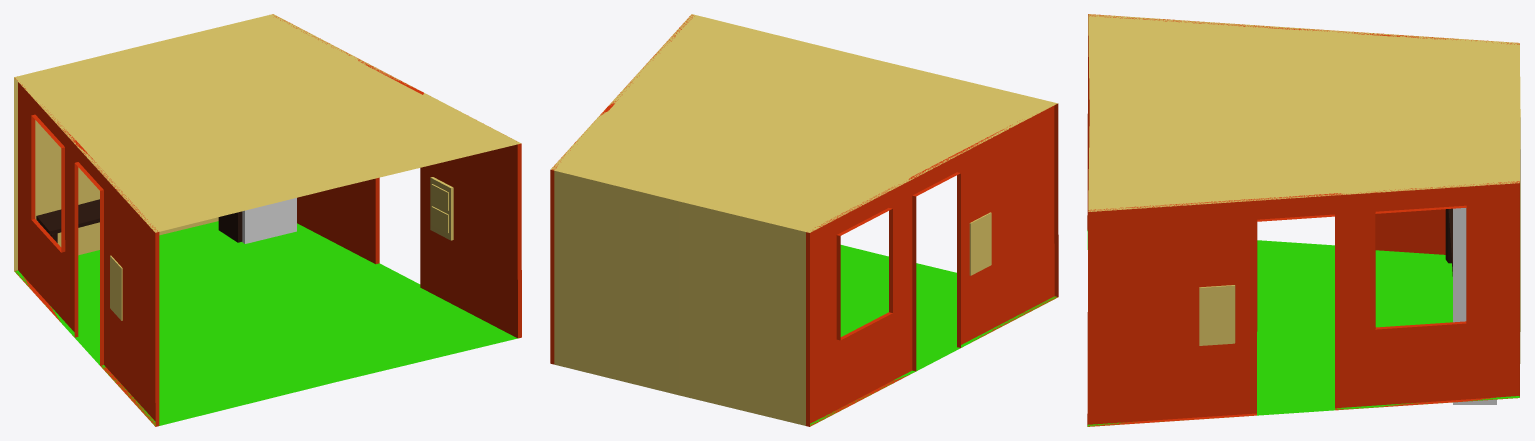
File: Office2.glb
3 views of the same model, side by side, from view 1: azimuth 30°, elevation 25°; view 2: azimuth 150°, elevation 25°; view 3: azimuth 270°, elevation 25° (orthographic). The views are drawn at different scales.
Parts seen in each view (by area): view 1: Plane, Cube.003, Cube, Plane.001, Cube.002; view 2: Plane; view 3: Plane, Cube.003.
Boxes of the visible parts, box(x1,y1,x2,y2) form: Plane: box(14, 14, 521, 426); Cube.003: box(242, 198, 296, 243); Cube: box(36, 199, 99, 235); Plane.001: box(431, 184, 448, 232); Cube.002: box(218, 211, 242, 242); Plane: box(550, 14, 1058, 426); Plane: box(1087, 14, 1520, 426); Cube.003: box(1453, 208, 1496, 404).
Bounding box in the file's own units: 17.22 × 9.13 × 15.9.
